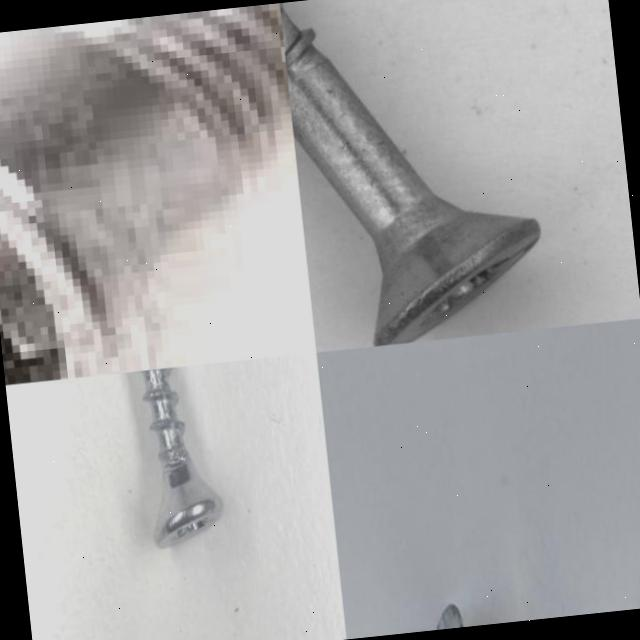Screw: (278, 0, 603, 351), (0, 3, 298, 385), (139, 367, 223, 546)
